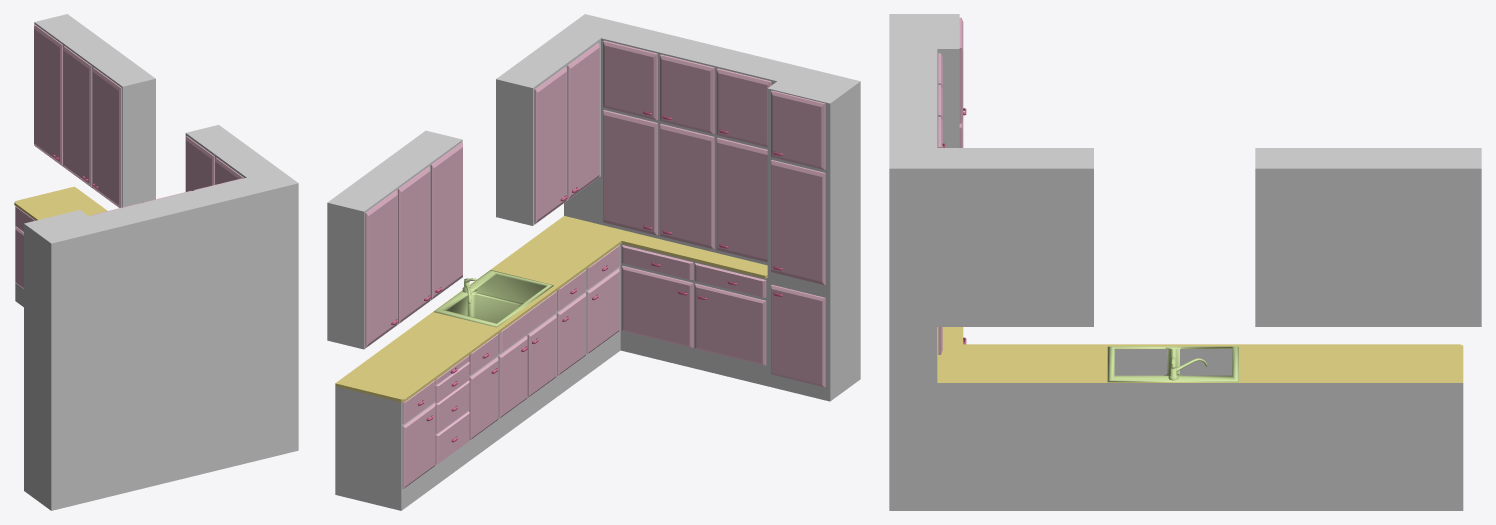
Rendered from cabinets.gltf.
The picture shows the model from 3 angles, left to right: view 1: azimuth 30°, elevation 25°; view 2: azimuth 150°, elevation 25°; view 3: azimuth 270°, elevation 25°; orthographic projection. The views are drawn at different scales.
Parts seen in each view (by area): view 1: cupboards.002; view 2: cupboards.002; view 3: cupboards.002.
Part boxes in pixels (x1,y1,x2,y2): cupboards.002: (14, 14, 298, 510); cupboards.002: (327, 14, 860, 510); cupboards.002: (889, 14, 1481, 510).
Bounding box in the file's own units: 7.73 × 7.99 × 12.52.
